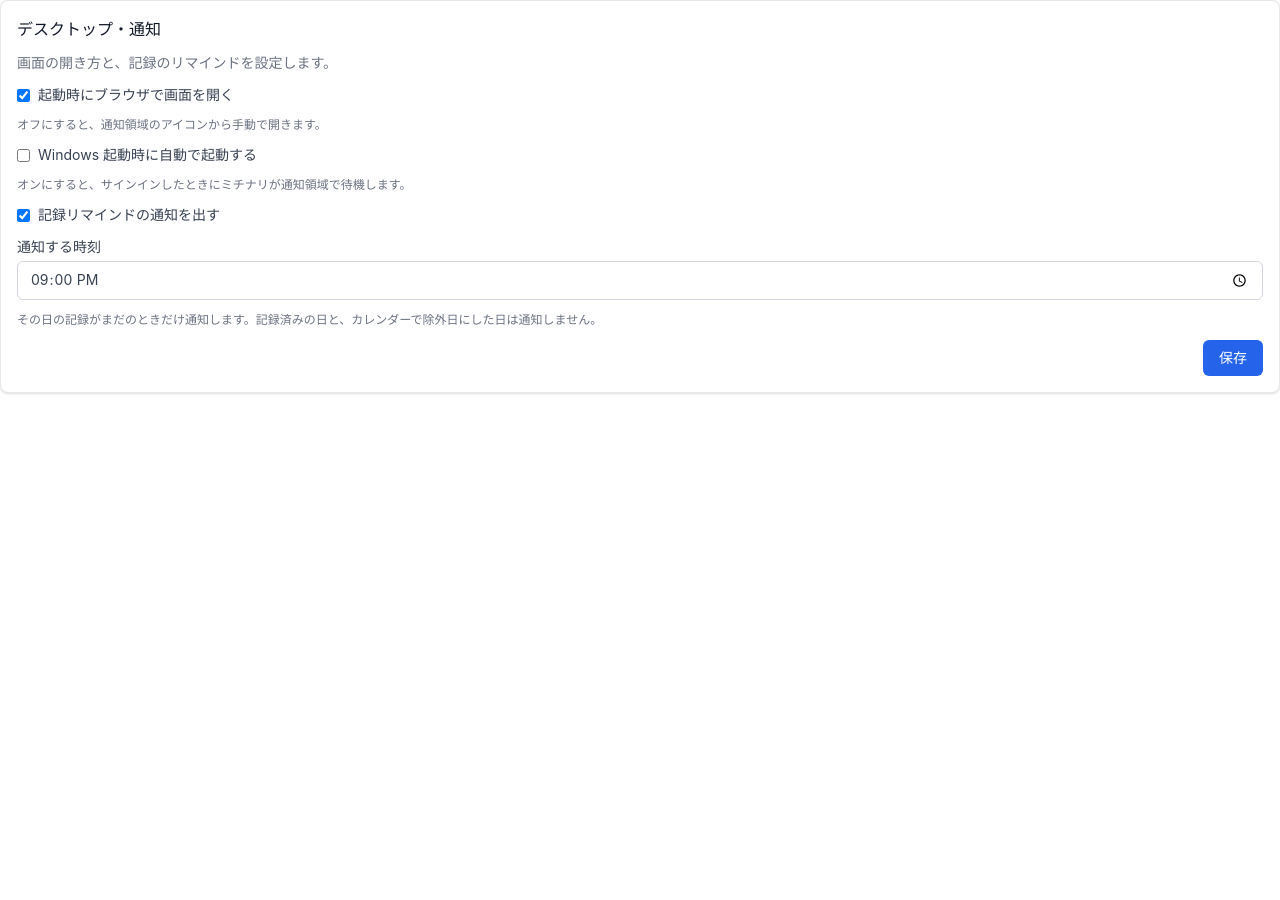
Test: DesktopSection の保存 › saves with an empty time once notifications are turned off
Clear the time field labelled "通知する時刻" at x=640, y=280, box 17,261 -> 1263,300
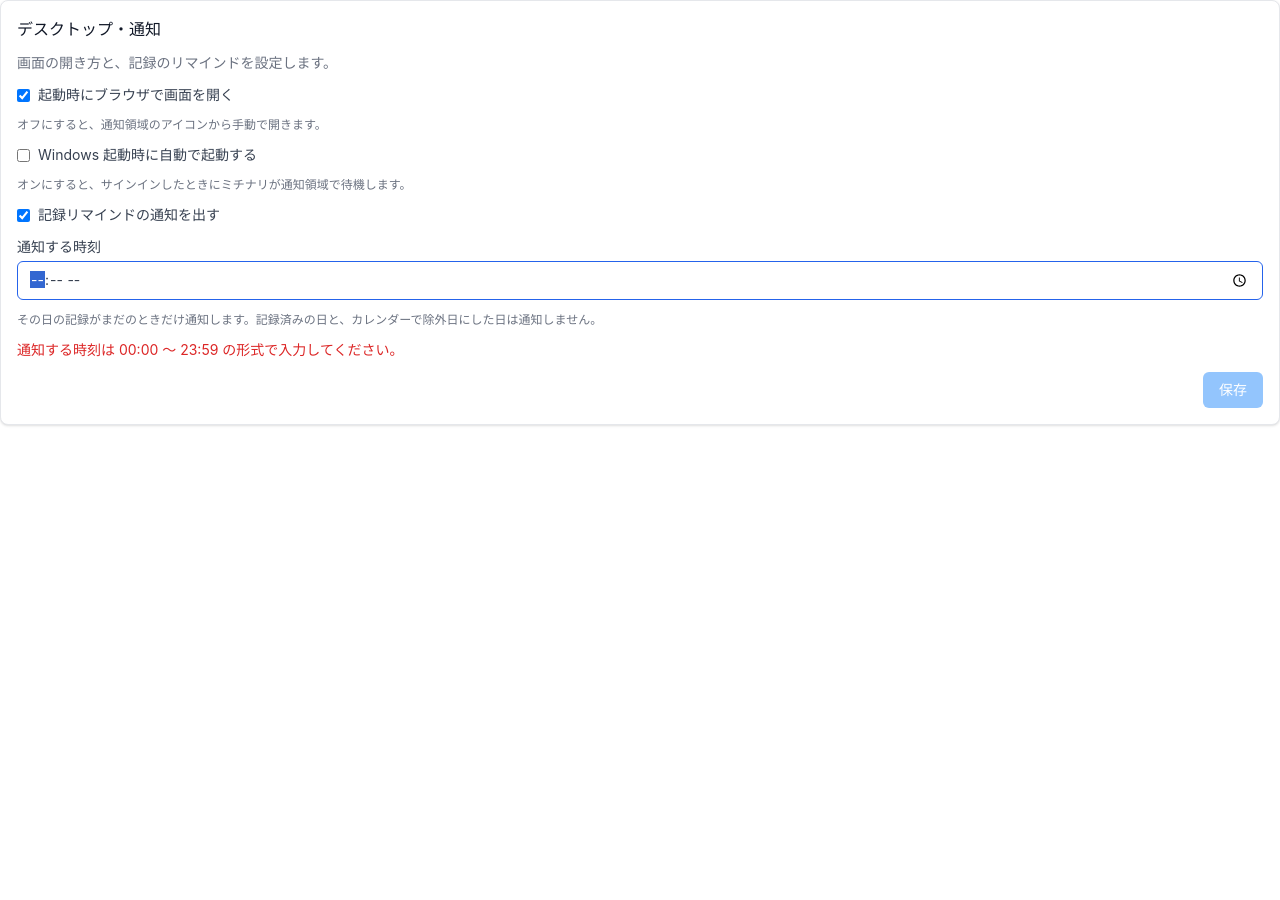
Click the checkbox labelled "記録リマインドの通知を出す" at x=24, y=215, box 17,208 -> 30,222
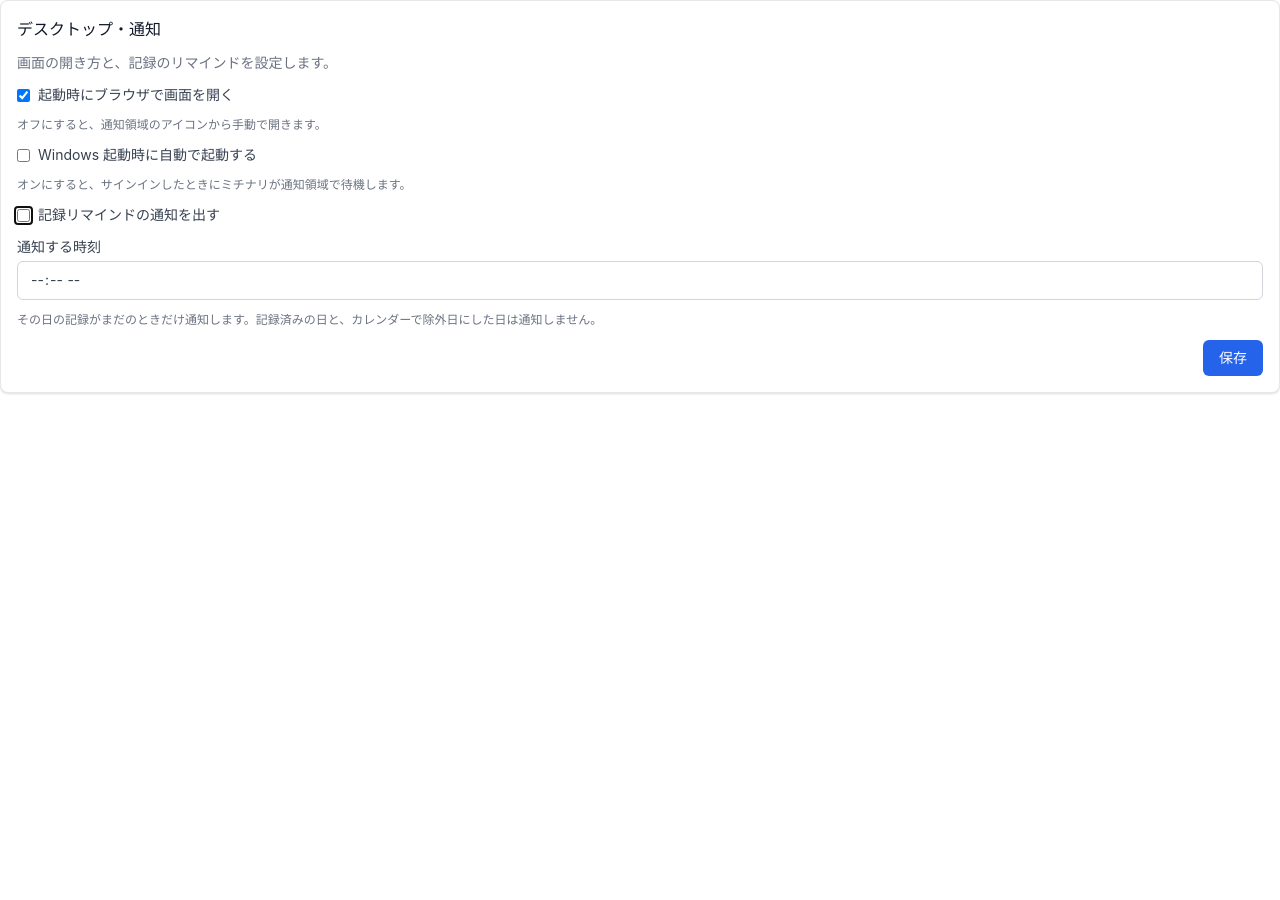
Check: the text "通知する時刻は 00:00 〜 23:59 の形式で入力してください。" is gone
Check: the button "保存" is enabled
Click the button "保存" at x=1233, y=358, box 1203,340 -> 1263,376
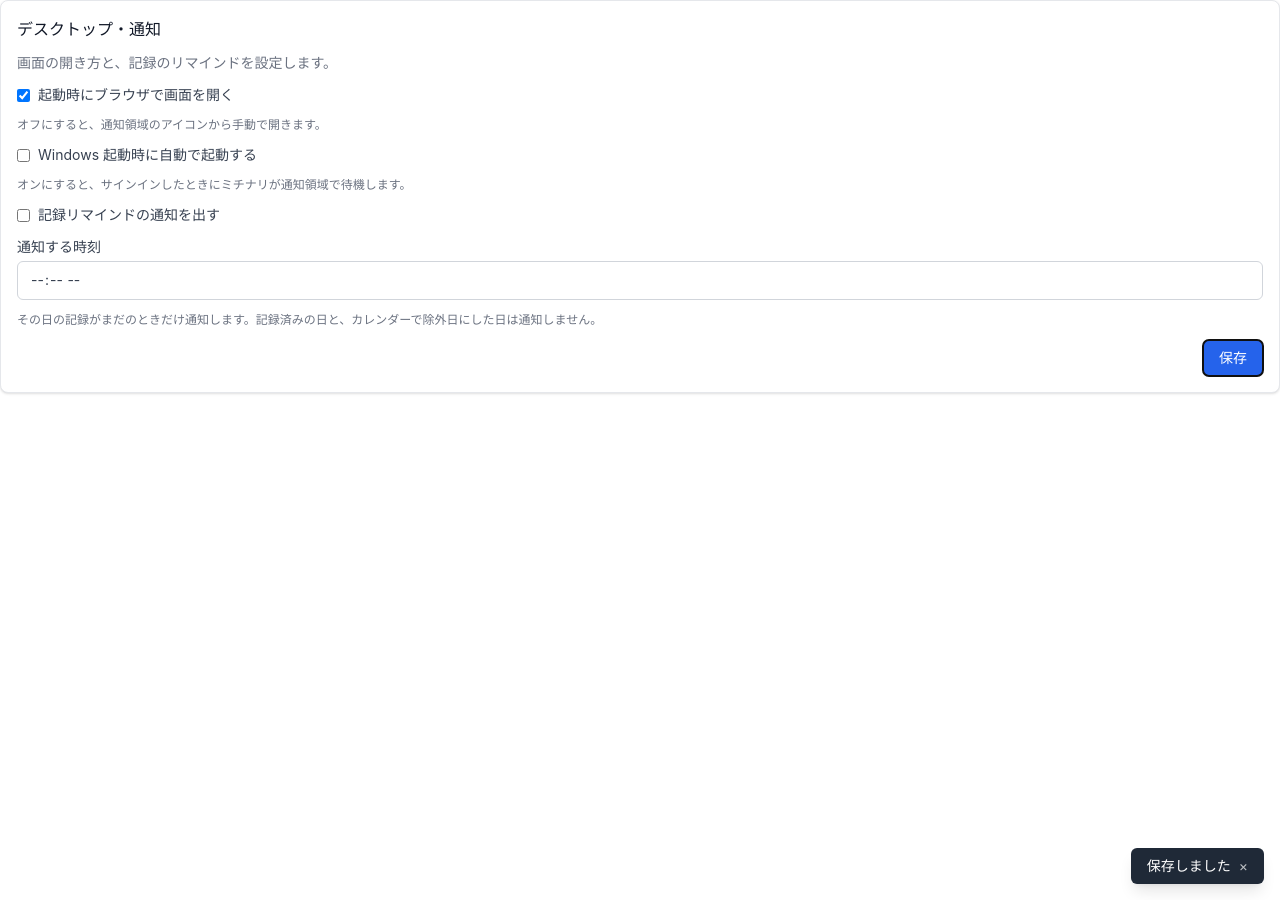
Check: the text "保存しました" is shown, box 1147,856 -> 1231,876
